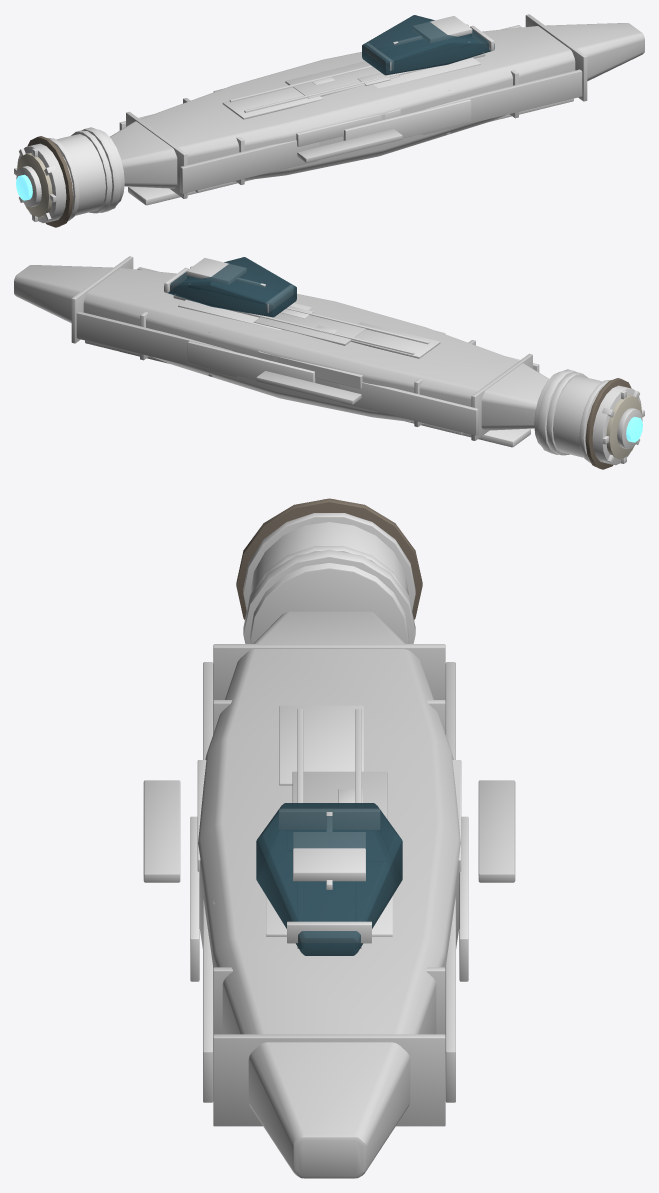
Rendered from helios_lark_production_v1_lod1.glb.
3 views of the same model, one above another, from view 1: azimuth 30°, elevation 25°; view 2: azimuth 150°, elevation 25°; view 3: azimuth 270°, elevation 25° (orthographic). The views are drawn at different scales.
Parts seen in each view (by area): view 1: LOD1_Hull, LOD1_Armor, LOD1_Mechanical, LOD1_Canopy, LOD1_Ceramic, LOD1_Radiator, LOD1_Thruster; view 2: LOD1_Hull, LOD1_Armor, LOD1_Mechanical, LOD1_Canopy, LOD1_Ceramic, LOD1_Radiator, LOD1_Thruster; view 3: LOD1_Hull, LOD1_Armor, LOD1_Canopy, LOD1_Mechanical, LOD1_Radiator.
Boxes of the visible parts, x1,y1,x2,y2 form: LOD1_Hull: (110,14,644,198); LOD1_Armor: (47,16,494,221); LOD1_Mechanical: (14,42,573,223); LOD1_Canopy: (362,15,494,75); LOD1_Ceramic: (16,153,52,217); LOD1_Radiator: (27,136,73,227); LOD1_Thruster: (16,174,32,200); LOD1_Hull: (14,256,548,440); LOD1_Armor: (164,258,611,463); LOD1_Mechanical: (85,284,644,465); LOD1_Canopy: (164,257,296,317); LOD1_Ceramic: (606,395,642,459); LOD1_Radiator: (585,378,631,469); LOD1_Thruster: (626,416,642,442); LOD1_Hull: (143,611,515,1178); LOD1_Armor: (190,513,468,981); LOD1_Canopy: (256,803,402,955); LOD1_Mechanical: (250,499,408,948); LOD1_Radiator: (236,498,422,619).
Size of what is drawn, in the model's own units: 13.98 by 2.26 by 3.66.
